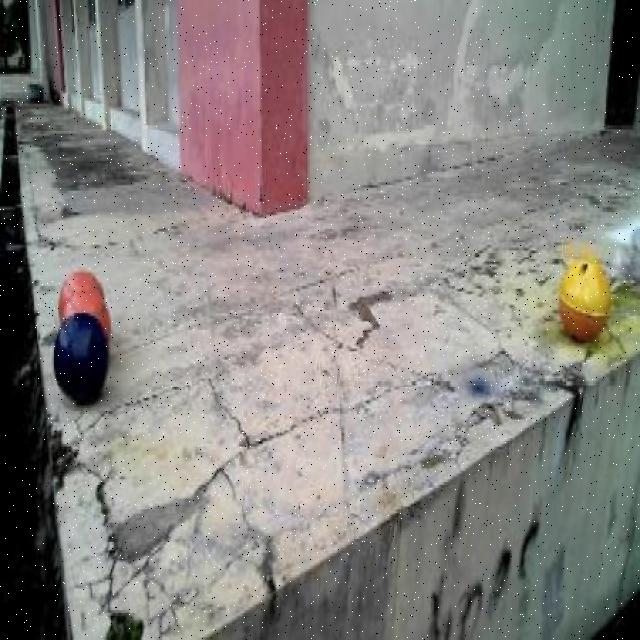buoy: (48, 308, 111, 409), (56, 260, 110, 332)
